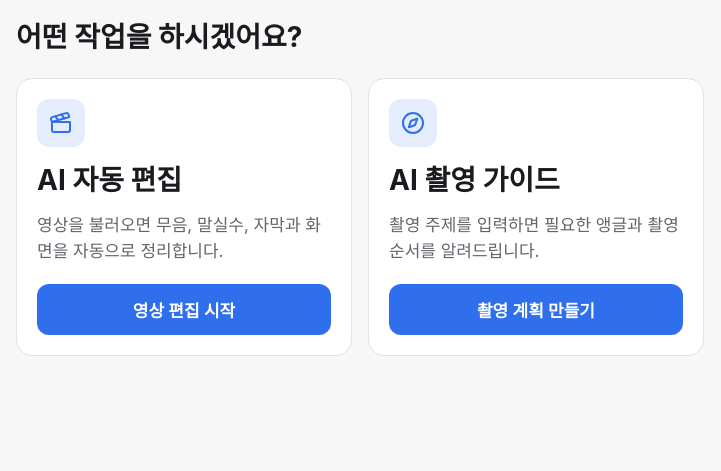
Test case: 4. 시작 화면 복귀 › AUTO_EDIT에서 뒤로가기를 반복하면 시작 화면으로 돌아간다
What coordinates should you click on to do the following:
click the button "영상 편집 시작"
I would click on:
 (184, 310)
Its box is [37, 284, 331, 335].
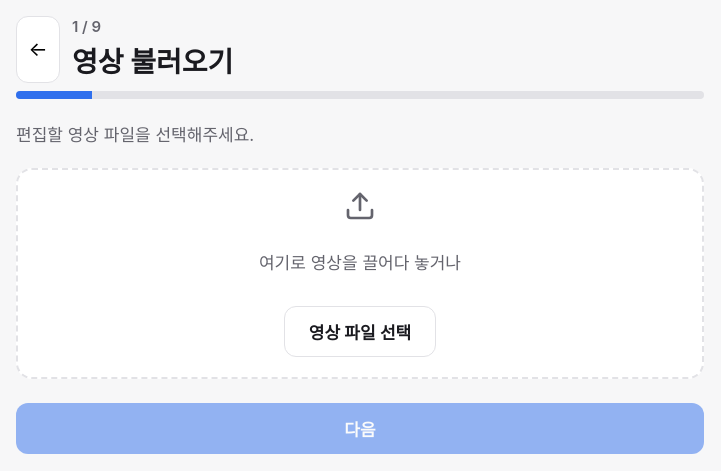
Now the text "1 / 9" is shown, box [72, 17, 101, 36]
What coordinates should you click on to do the following:
click the button named "이전 화면으로"
I would click on:
 (38, 49)
Its box is [16, 16, 60, 82].
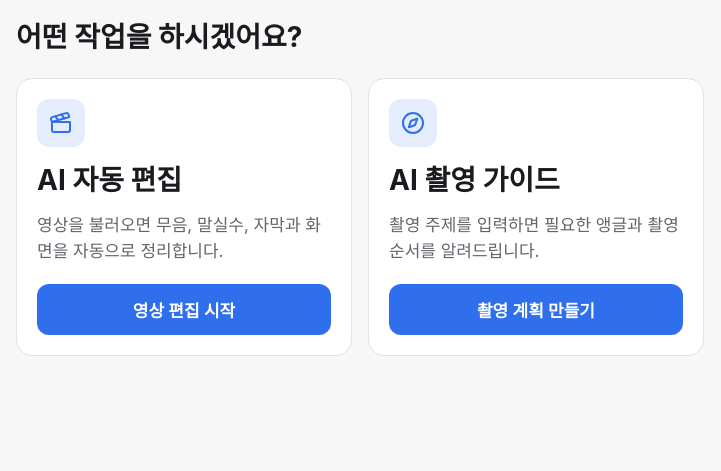
Now the heading "AI 자동 편집" is shown, box [37, 159, 182, 201]
Now the heading "AI 촬영 가이드" is shown, box [389, 159, 560, 201]
